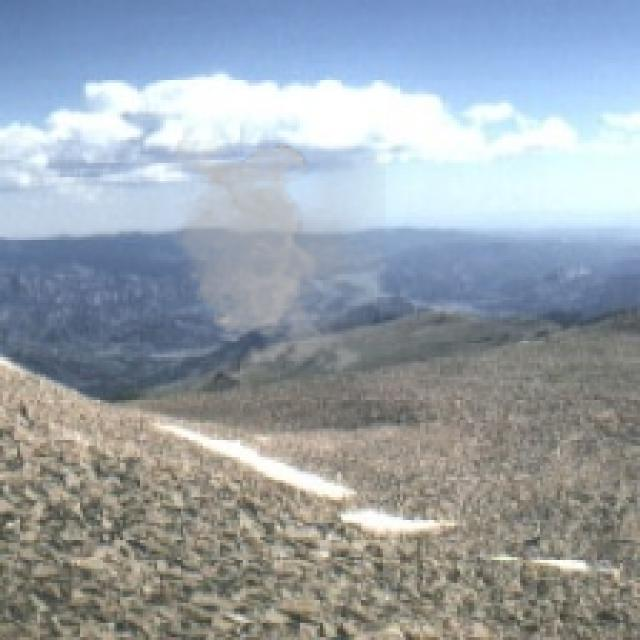smoke: (163, 140, 386, 380)
